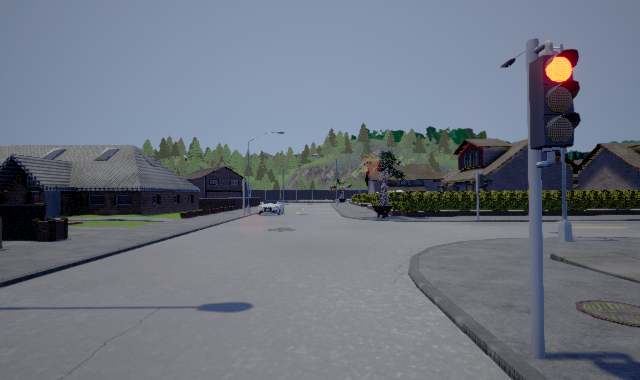traffic_light: (529, 40, 581, 168)
vehicle: (258, 200, 284, 215)
